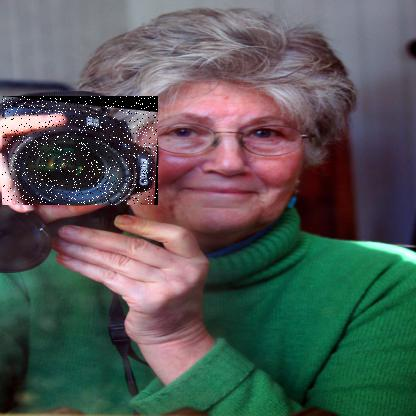Camera: (3, 97, 160, 207)
